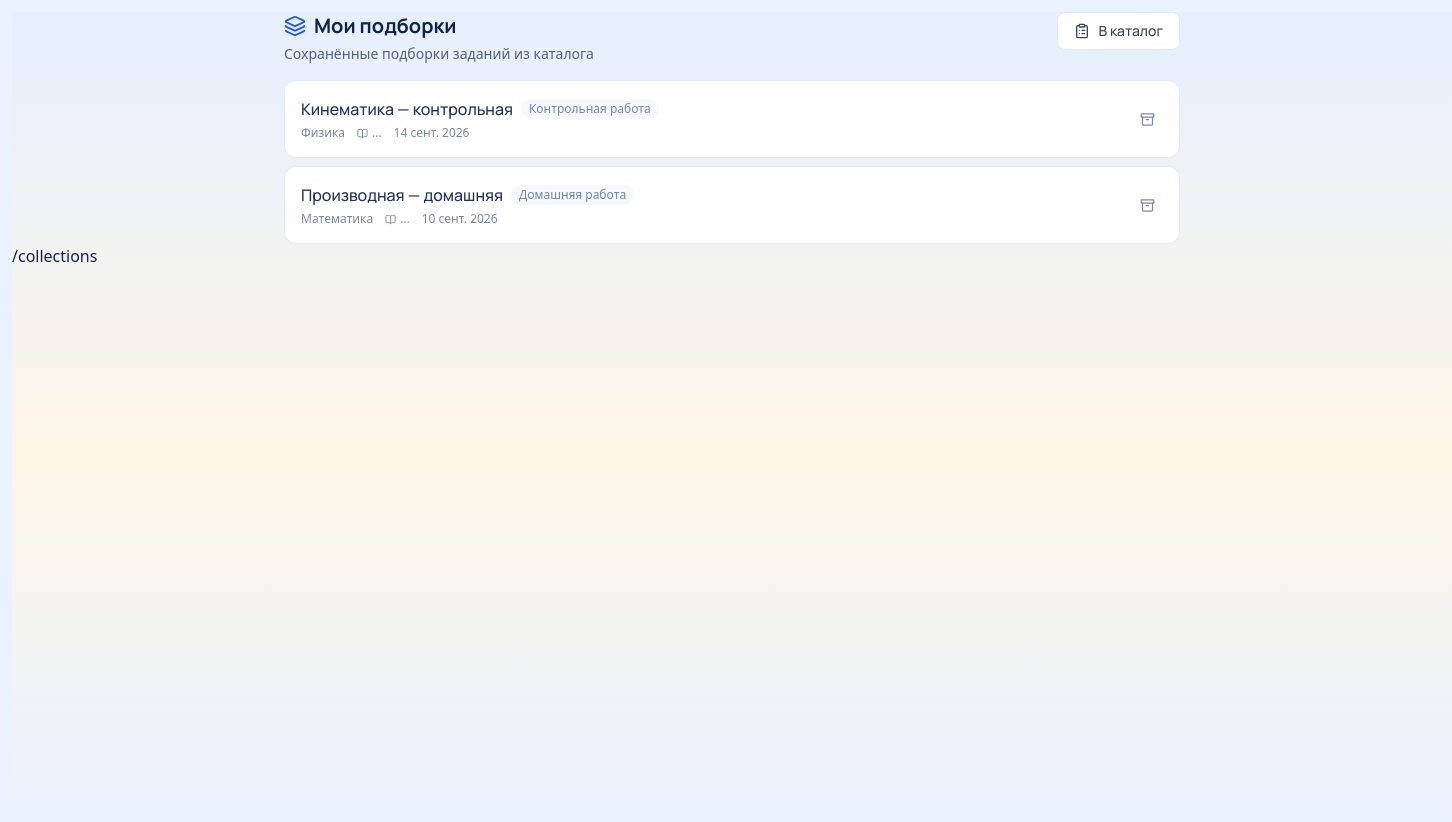
Test: CollectionsPage — «Мои подборки» (§188) › клик по «В архив» архивирует и НЕ открывает подборку (§200)
Expected: the link "Кинематика — контрольная" is shown, x1=301 y1=97 x2=513 y2=121
Click the button named "В архив" in the row of "Контрольная работа" at [1148, 119], box x1=1132 y1=104 x2=1163 y2=134
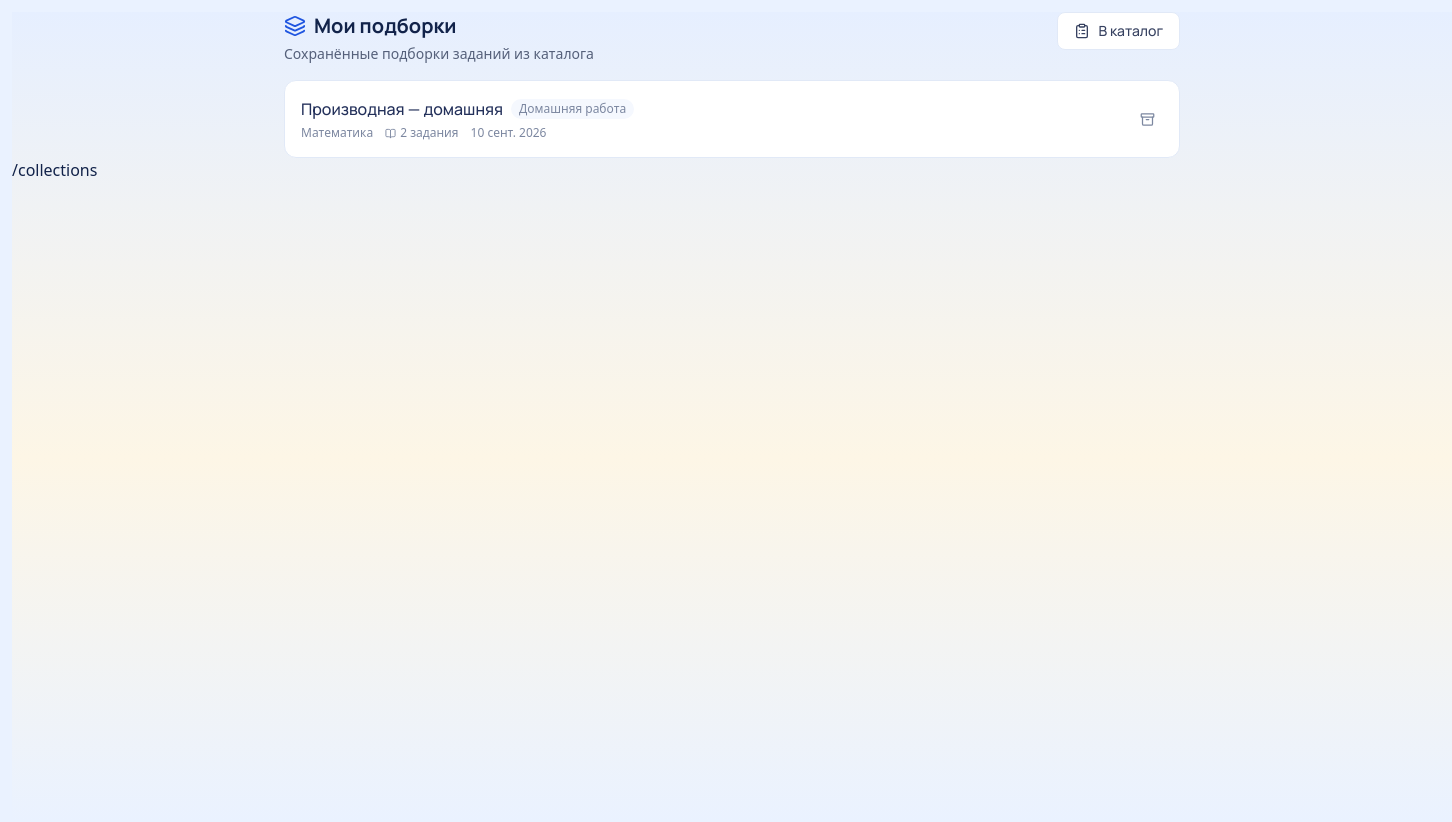
Expected: the text with test id "location" reads "/collections", x1=12 y1=159 x2=97 y2=181
Expected: the link "Кинематика — контрольная" is gone
